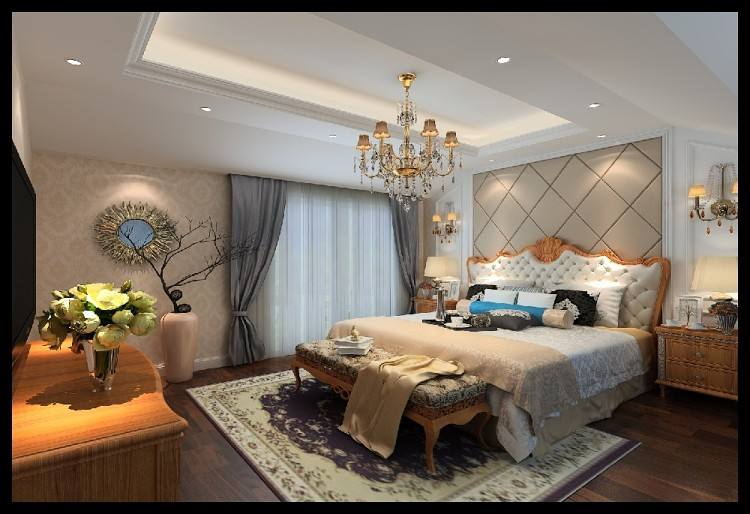床: (308, 312, 644, 468)
枕头: (469, 274, 624, 330)
灯: (352, 66, 463, 220), (417, 255, 460, 306), (59, 55, 84, 71), (493, 53, 514, 68), (192, 102, 212, 115), (586, 100, 606, 112)
